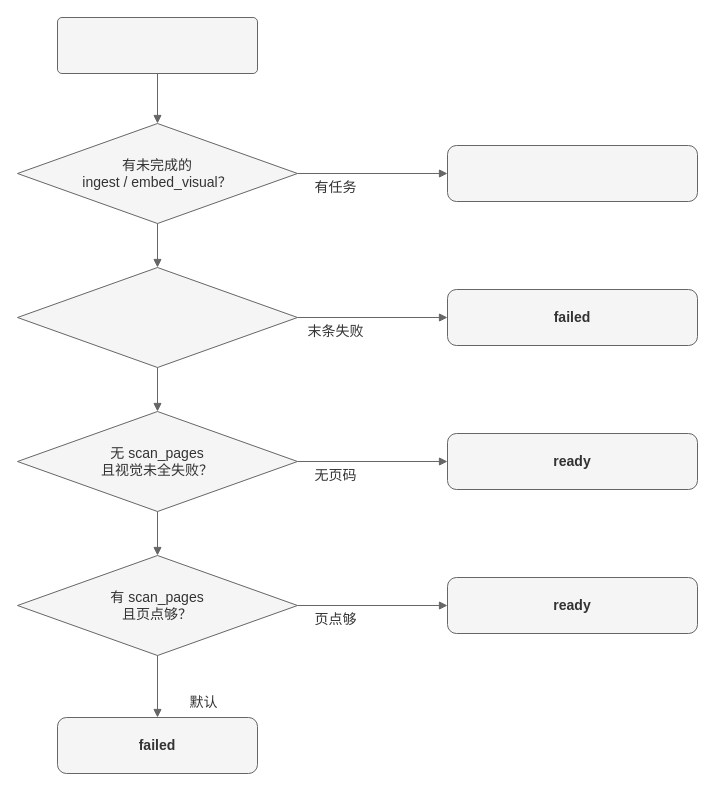
Image size: 715x791. Some labels were removed from this diagram. The box of each missing label's shape, as (x1, y1, x2, y2) in pixels:
中间态 settle：按序判定: (56, 16, 258, 74)
末条 ingest 失败？: (16, 266, 298, 368)
等任务终态: (446, 144, 698, 202)
